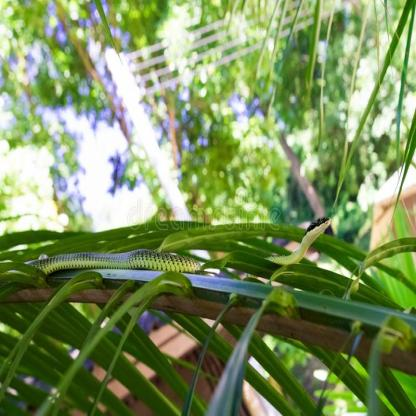Snake: (270, 212, 333, 271)
